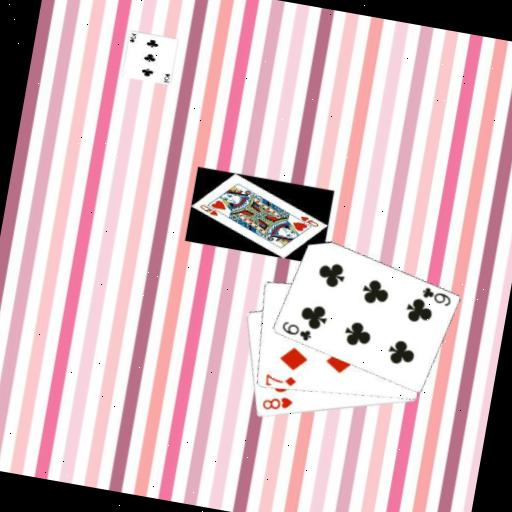6C: (277, 317, 314, 343), (417, 283, 454, 309)
7D: (261, 369, 298, 390)
8H: (258, 390, 295, 416)
